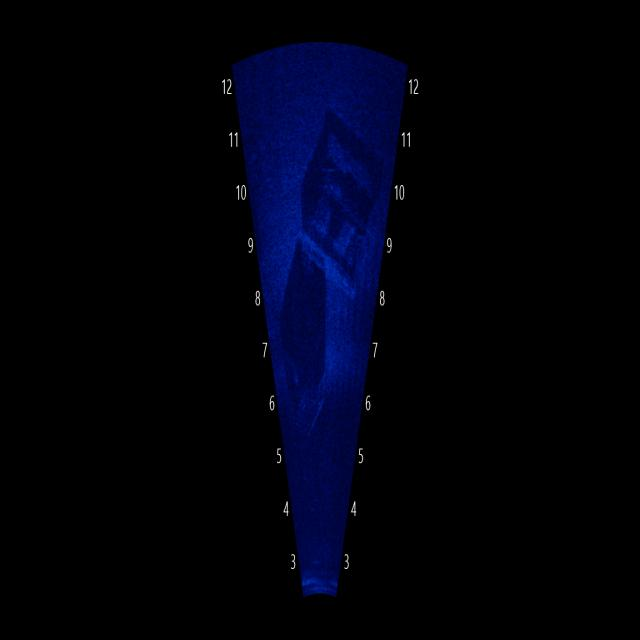square: (281, 88, 384, 301)
